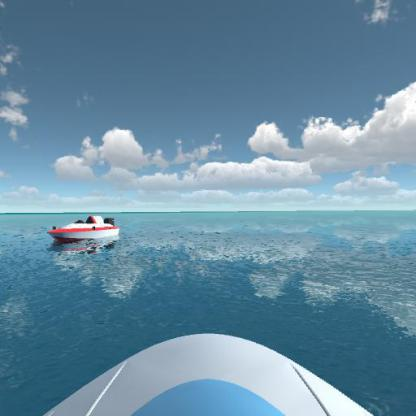usv3: (44, 209, 128, 244)
